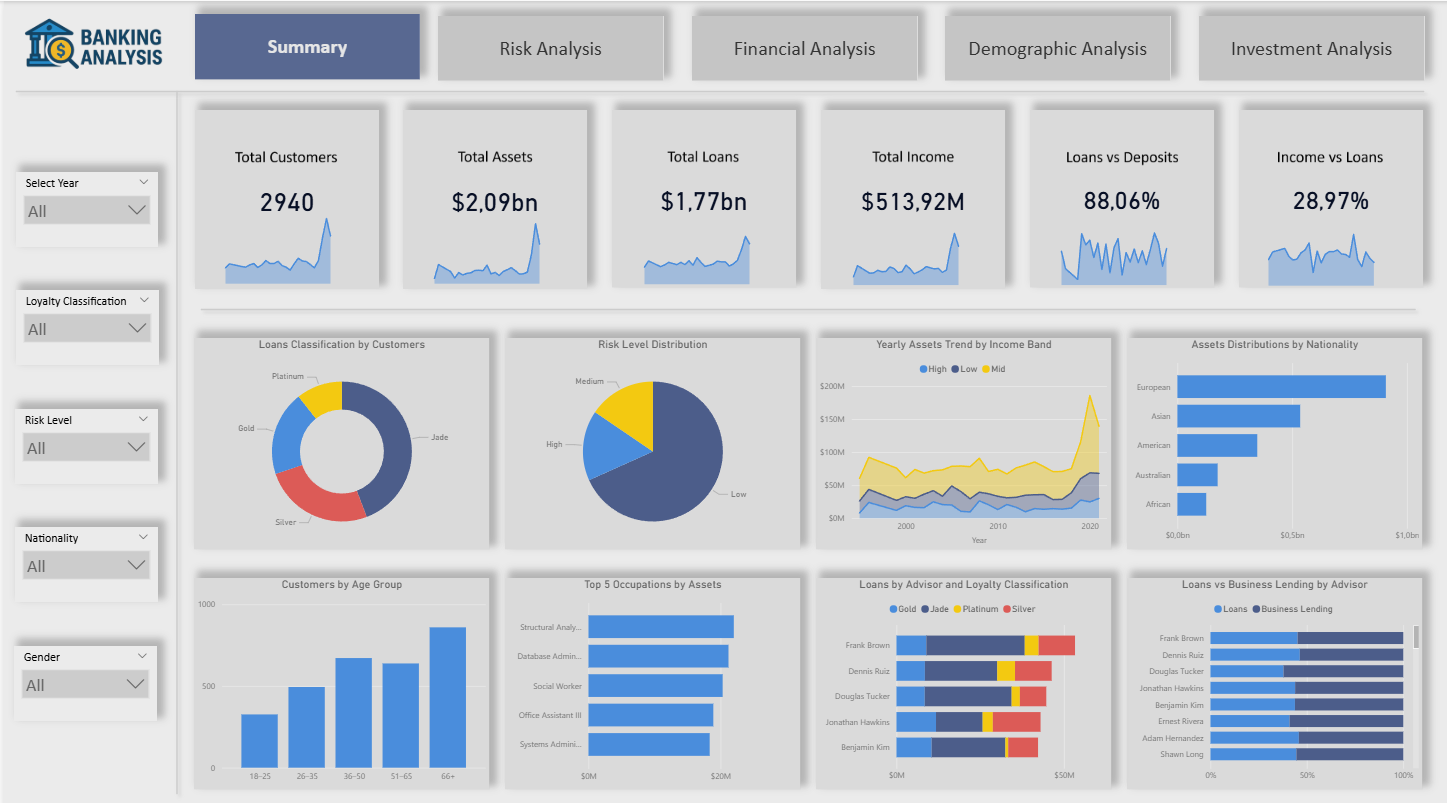

This screenshot's page, from the dashboard's own definition file:
{"tool":"powerbi","page":{"name":"Summary","canvas":[1920,1080],"ordinal":0},"visuals":[{"type":"card","title":"Customers_Card","fields":{"Values":["MeasuresTable.Total Customers"]},"box":[253.5,145.5,244.7,238],"z":0},{"type":"card","title":"I/L_Card","fields":{"Values":["MeasuresTable.Income to Loan Ratio"]},"box":[1642,145.5,244.7,235.8],"z":1000},{"type":"card","title":"Assets_Card","fields":{"Values":["MeasuresTable.Total Assets"]},"box":[531.2,145.5,244.7,238],"z":2000},{"type":"card","title":"Loans_Card","fields":{"Values":["MeasuresTable.Total Bank Loans"]},"box":[808.9,145.5,244.7,235.8],"z":3000},{"type":"card","title":"L/D_Card","fields":{"Values":["MeasuresTable.Loan to Deposit Ratio"]},"box":[1364.3,145.5,244.7,235.8],"z":4000},{"type":"card","title":"Income_Card","fields":{"Values":["MeasuresTable.Total Estimated Income"]},"box":[1086.6,145.5,244.7,238],"z":5000},{"type":"clusteredColumnChart","title":"Customers by Age Group","fields":{"Category":["Dim_Age.Age Group"],"Y":["MeasuresTable.Total Customers"]},"box":[253,767,393.5,281.3],"z":6000},{"type":"clusteredBarChart","title":"Top 5 Occupations by Assets","fields":{"Category":["Dim_Customer.Occupation"],"Y":["MeasuresTable.Total Assets"]},"box":[666.5,767,393.5,281.3],"z":7000},{"type":"stackedAreaChart","title":"Yearly Assets Trend by Income Band","fields":{"Category":["Banking.Joined Bank.Variation.Date Hierarchy.Year"],"Y":["MeasuresTable.Total Assets"],"Series":["Banking.Income Band"]},"box":[1080,448.2,393.5,281],"z":8000},{"type":"donutChart","title":"Loans Classification by Customers","fields":{"Category":["Dim_Loyalty.Loyalty Classification"],"Y":["MeasuresTable.Total Customers"]},"box":[253,448.2,393.5,281],"z":9000},{"type":"pieChart","title":"Risk Level Distribution","fields":{"Category":["Dim_Risk.Risk Level"],"Y":["MeasuresTable.Total Customers"]},"box":[666.5,448.2,393.5,281],"z":10000},{"type":"hundredPercentStackedBarChart","title":"Loans vs Business Lending by Advisor","fields":{"Y":["MeasuresTable.Total Bank Loans","MeasuresTable.Total Business Lending"],"Category":["Banking.Banking Contact"]},"box":[1493.5,767,393.5,281.3],"z":11000},{"type":"clusteredBarChart","title":"Assets Distributions by Nationality","fields":{"Category":["Dim_Nationality.Nationality"],"Y":["MeasuresTable.Total Assets"]},"box":[1493.5,448.2,393.5,281],"z":12000},{"type":"barChart","title":"Loans by Advisor and Loyalty Classification","fields":{"Category":["Banking.Banking Contact"],"Y":["MeasuresTable.Total Bank Loans"],"Series":["Dim_Loyalty.Loyalty Classification"]},"box":[1080,767,393.5,281.3],"z":13000},{"type":"areaChart","fields":{"Category":["Dim_Year.Year Joined"],"Y":["MeasuresTable.Total Customers"]},"box":[253,274,244.9,107.5],"z":14000},{"type":"areaChart","fields":{"Category":["Dim_Year.Year Joined"],"Y":["MeasuresTable.Total Assets"]},"box":[531,274,245,107],"z":15000},{"type":"areaChart","fields":{"Category":["Dim_Year.Year Joined"],"Y":["MeasuresTable.Total Bank Loans"]},"box":[810,275,245,107.5],"z":16000},{"type":"areaChart","fields":{"Category":["Dim_Year.Year Joined"],"Y":["MeasuresTable.Total Estimated Income"]},"box":[1087.5,275,245,107.5],"z":17000},{"type":"areaChart","fields":{"Category":["Dim_Year.Year Joined"],"Y":["MeasuresTable.Loan to Deposit Ratio"]},"box":[1365,275,245,107.5],"z":18000},{"type":"shape","title":"Horizontal_Line 02","box":[253,397.2,1634,25.3],"z":19000},{"type":"shape","title":"Vertical_Line","box":[207.5,110.4,45.2,953.6],"z":20000},{"type":"slicer","title":"Year_Slicer","fields":{"Values":["Dim_Year.Year Joined"]},"box":[16,227,189,100],"z":21000},{"type":"slicer","title":"Loyalty_Slicer","fields":{"Values":["Dim_Loyalty.Loyalty Classification"]},"box":[15.4,384.6,189.6,100],"z":22000},{"type":"slicer","title":"Risk_Slicer","fields":{"Values":["Dim_Risk.Risk Level"]},"box":[14.9,542.2,189.6,100],"z":23000},{"type":"slicer","title":"Nationalty_Slicer","fields":{"Values":["Dim_Nationality.Nationality"]},"box":[14.3,699.8,189.6,100],"z":24000},{"type":"slicer","title":"Gender_Slicer","fields":{"Values":["Dim_Gender.GenderId"]},"box":[13.8,857.4,189.6,100],"z":25000},{"type":"actionButton","title":"Risk_Inactive","box":[577.5,19.8,299.8,86],"z":27000},{"type":"actionButton","title":"Financial_ Inactive","box":[914.7,19.8,299.8,86],"z":28000},{"type":"actionButton","title":"Demographic_Inactive","box":[1251.9,19.8,299.8,86],"z":29000},{"type":"actionButton","title":"Investment_Inactive","box":[1589.1,19.8,299.8,86],"z":30000},{"type":"actionButton","title":"Summary_Active","box":[253.4,17.7,299.1,86.9],"z":31000},{"type":"shape","title":"Horizontal_Line 01","box":[6.7,107.7,1891.3,25.3],"z":32000},{"type":"areaChart","fields":{"Category":["Dim_Year.Year Joined"],"Y":["MeasuresTable.Income to Loan Ratio"]},"box":[1640.5,276.8,245.6,107.2],"z":33000},{"type":"image","title":"Income vs Loans","box":[1669,176.4,188.6,66.5],"z":34000},{"type":"image","title":"Total Customers","box":[282.2,176.4,187.3,66.5],"z":35000},{"type":"image","title":"Total Assets","box":[560.4,176.4,187.3,66.5],"z":36000},{"type":"image","title":"Total Income","box":[1115.4,176.4,187.3,66.5],"z":37000},{"type":"image","title":"Total Loans","box":[837.2,176.4,187.3,66.5],"z":38000},{"type":"image","title":"Loans vs Deposits","box":[1393.5,176.4,187.3,66.5],"z":39000},{"type":"image","title":"Banking _Logo","box":[0,0,240.7,125],"z":40000}]}

Visuals, with their boxes in screenshot pixels (x1, y1, x2, y2), scaled from the page's 1920x1080 canvas onto the 1447x803 screenshot:
"Customers_Card" card: bbox=[191, 108, 375, 285]
"I/L_Card" card: bbox=[1237, 108, 1422, 284]
"Assets_Card" card: bbox=[400, 108, 585, 285]
"Loans_Card" card: bbox=[610, 108, 794, 284]
"L/D_Card" card: bbox=[1028, 108, 1213, 284]
"Income_Card" card: bbox=[819, 108, 1003, 285]
"Customers by Age Group" clusteredColumnChart: bbox=[191, 570, 487, 779]
"Top 5 Occupations by Assets" clusteredBarChart: bbox=[502, 570, 799, 779]
"Yearly Assets Trend by Income Band" stackedAreaChart: bbox=[814, 333, 1110, 542]
"Loans Classification by Customers" donutChart: bbox=[191, 333, 487, 542]
"Risk Level Distribution" pieChart: bbox=[502, 333, 799, 542]
"Loans vs Business Lending by Advisor" hundredPercentStackedBarChart: bbox=[1126, 570, 1422, 779]
"Assets Distributions by Nationality" clusteredBarChart: bbox=[1126, 333, 1422, 542]
"Loans by Advisor and Loyalty Classification" barChart: bbox=[814, 570, 1110, 779]
areaChart - Dim_Year.Year Joined x MeasuresTable.Total Customers: bbox=[191, 204, 375, 284]
areaChart - Dim_Year.Year Joined x MeasuresTable.Total Assets: bbox=[400, 204, 585, 283]
areaChart - Dim_Year.Year Joined x MeasuresTable.Total Bank Loans: bbox=[610, 204, 795, 284]
areaChart - Dim_Year.Year Joined x MeasuresTable.Total Estimated Income: bbox=[820, 204, 1004, 284]
areaChart - Dim_Year.Year Joined x MeasuresTable.Loan to Deposit Ratio: bbox=[1029, 204, 1213, 284]
"Horizontal_Line 02" shape: bbox=[191, 295, 1422, 314]
"Vertical_Line" shape: bbox=[156, 82, 190, 791]
"Year_Slicer" slicer: bbox=[12, 169, 154, 243]
"Loyalty_Slicer" slicer: bbox=[12, 286, 154, 360]
"Risk_Slicer" slicer: bbox=[11, 403, 154, 477]
"Nationalty_Slicer" slicer: bbox=[11, 520, 154, 595]
"Gender_Slicer" slicer: bbox=[10, 637, 153, 712]
"Risk_Inactive" actionButton: bbox=[435, 15, 661, 79]
"Financial_ Inactive" actionButton: bbox=[689, 15, 915, 79]
"Demographic_Inactive" actionButton: bbox=[943, 15, 1169, 79]
"Investment_Inactive" actionButton: bbox=[1198, 15, 1424, 79]
"Summary_Active" actionButton: bbox=[191, 13, 416, 78]
"Horizontal_Line 01" shape: bbox=[5, 80, 1430, 99]
areaChart - Dim_Year.Year Joined x MeasuresTable.Income to Loan Ratio: bbox=[1236, 206, 1421, 286]
"Income vs Loans" image: bbox=[1258, 131, 1400, 181]
"Total Customers" image: bbox=[213, 131, 354, 181]
"Total Assets" image: bbox=[422, 131, 564, 181]
"Total Income" image: bbox=[841, 131, 982, 181]
"Total Loans" image: bbox=[631, 131, 772, 181]
"Loans vs Deposits" image: bbox=[1050, 131, 1191, 181]
"Banking _Logo" image: bbox=[0, 0, 181, 93]
